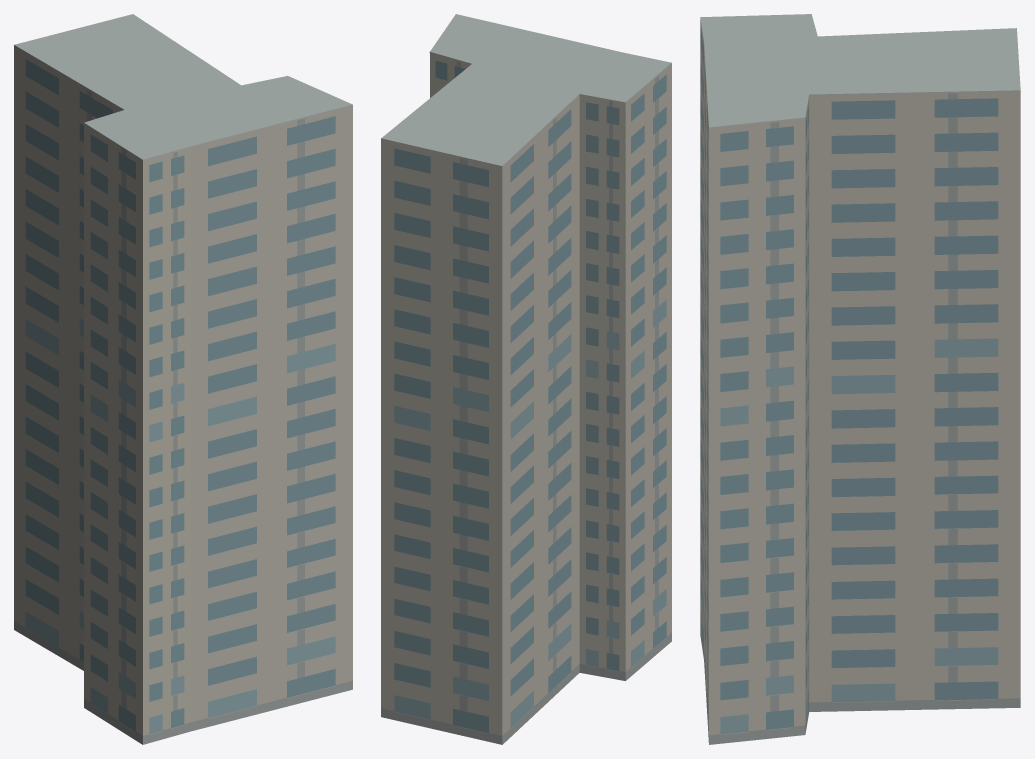
Rendered from residential-70114b6a-319e-4700-a26e-6713565e8a70.glb.
3 renders of one model, left to right at view 1: azimuth 30°, elevation 25°; view 2: azimuth 150°, elevation 25°; view 3: azimuth 270°, elevation 25°, orthographic. The views are drawn at different scales.
Parts seen in each view (by area): view 1: residential-70114b6a-319e-4700-a26e-6713565e8a70.tmp; view 2: residential-70114b6a-319e-4700-a26e-6713565e8a70.tmp; view 3: residential-70114b6a-319e-4700-a26e-6713565e8a70.tmp.
Part boxes in pixels (x1=…): residential-70114b6a-319e-4700-a26e-6713565e8a70.tmp: x1=14, y1=14, x2=352, y2=744; residential-70114b6a-319e-4700-a26e-6713565e8a70.tmp: x1=381, y1=14, x2=671, y2=744; residential-70114b6a-319e-4700-a26e-6713565e8a70.tmp: x1=700, y1=14, x2=1020, y2=744.
Bounding box in the file's own units: 33.89 × 86 × 40.45.
